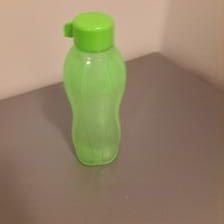bottle: (59, 10, 130, 168)
